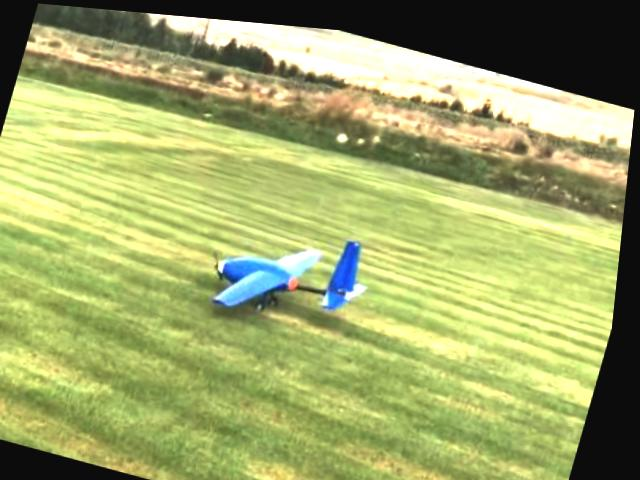uav: (197, 190, 391, 347)
